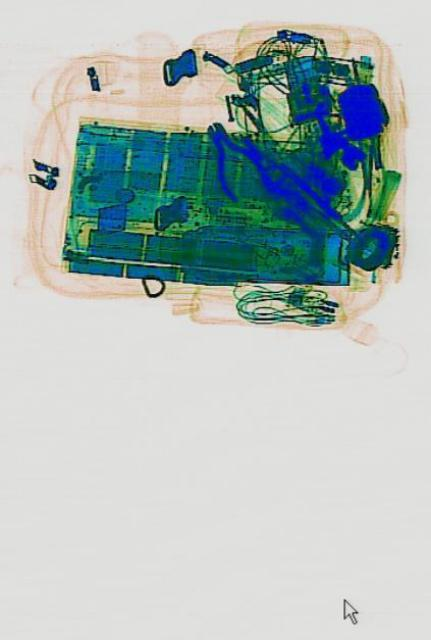Pliers: (194, 103, 265, 207)
